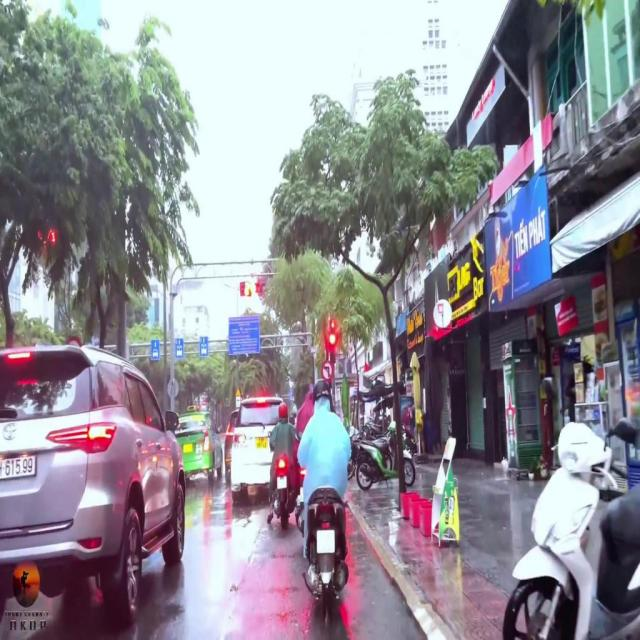cam_re_trai: (321, 360, 333, 379)
duong_cho_xe_o_to: (151, 339, 160, 358)
khac: (175, 339, 184, 360), (199, 336, 207, 358)
